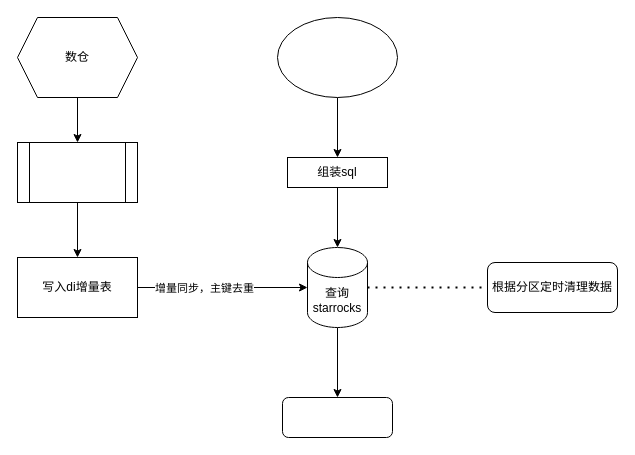
Image size: 635x455. Some labels were removed from this diagram. The shapes that lost their labels are listed below. From the top down, each one's centre as x and y in pixels, then its label:
point (337, 57): 用户轨迹平台
point (77, 172): 等待上游表数据加工完成
point (337, 417): 组合输出结果
